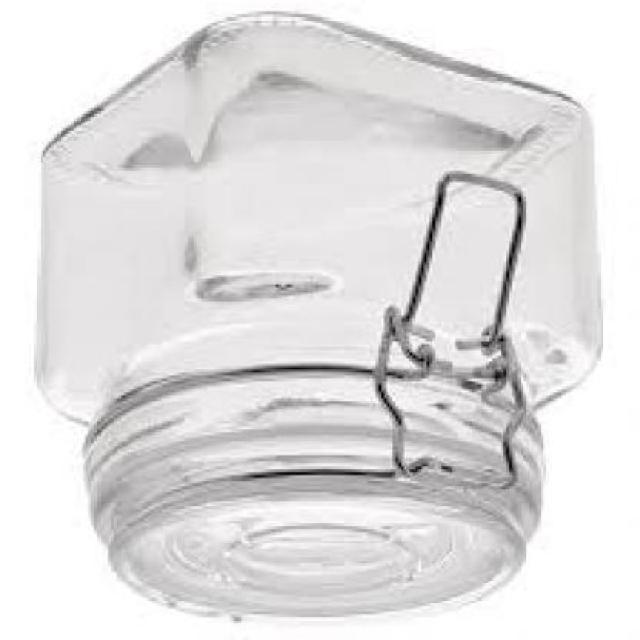GLASS: (38, 12, 602, 617)
METAL: (374, 174, 528, 483)
PLASTIC: (83, 364, 544, 614)
